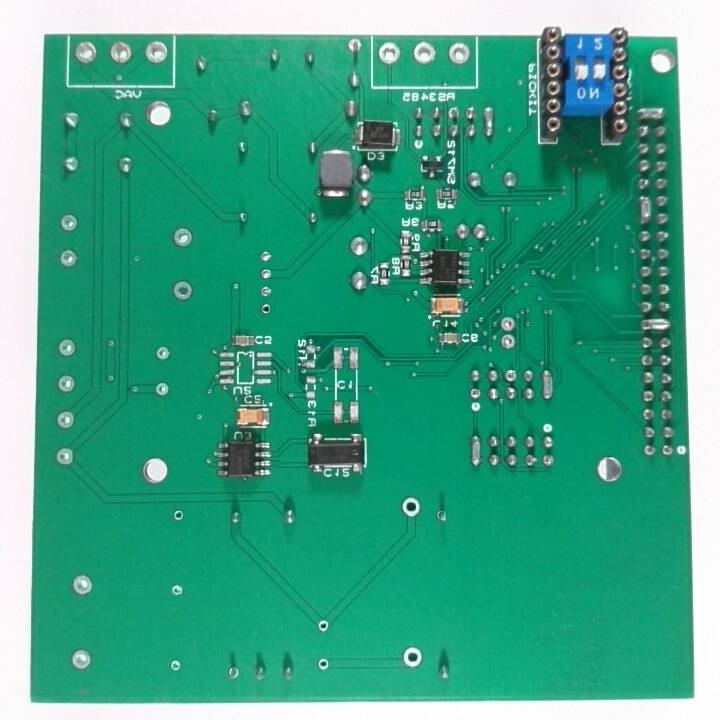F: (70, 36, 101, 68), (169, 277, 197, 306), (107, 38, 135, 66), (67, 570, 95, 598), (410, 39, 439, 66), (143, 38, 170, 66), (445, 40, 473, 67), (376, 40, 403, 67), (397, 495, 424, 521), (397, 645, 425, 670), (69, 647, 94, 674), (170, 227, 197, 252), (52, 444, 77, 469), (53, 407, 77, 431), (56, 336, 79, 361), (53, 374, 79, 396), (58, 211, 80, 236), (56, 248, 81, 269), (344, 35, 367, 57), (153, 379, 173, 401), (497, 312, 519, 332), (153, 344, 173, 364), (165, 656, 184, 675), (223, 663, 243, 681), (659, 440, 677, 460), (499, 332, 517, 351), (168, 580, 185, 600), (256, 283, 274, 300), (315, 656, 332, 673), (433, 507, 450, 524), (541, 452, 558, 469), (639, 354, 657, 370), (445, 104, 461, 122), (504, 367, 519, 386), (659, 406, 676, 422), (258, 266, 274, 282), (315, 618, 330, 635), (170, 508, 186, 523), (257, 249, 273, 264), (258, 301, 273, 317), (467, 386, 482, 401)
P: (480, 103, 499, 142), (633, 103, 670, 123), (467, 431, 484, 470), (638, 316, 676, 333), (539, 366, 556, 403), (637, 192, 654, 227)
